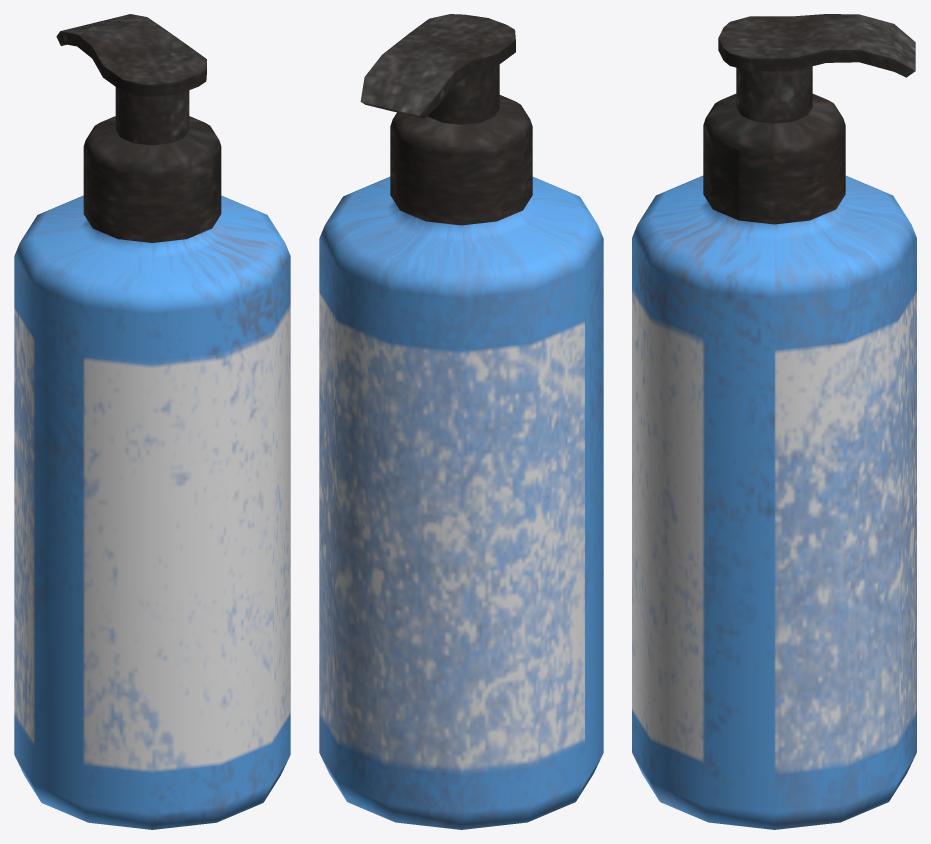
File: SM_Bottle_8.fbx
3 views of the same model, side by side, from view 1: azimuth 30°, elevation 25°; view 2: azimuth 150°, elevation 25°; view 3: azimuth 270°, elevation 25° (orthographic). The views are drawn at different scales.
Visible parts, largest first — view 1: SM_Bottle_8_LOD0; view 2: SM_Bottle_8_LOD0; view 3: SM_Bottle_8_LOD0.
Boxes of the visible parts, x1,y1,x2,y2 form: SM_Bottle_8_LOD0: (14,14,290,829); SM_Bottle_8_LOD0: (319,14,603,829); SM_Bottle_8_LOD0: (632,14,916,829).
Bounding box in the file's own units: 7.06 × 7.06 × 20.56.
1 material, 1 textured.
